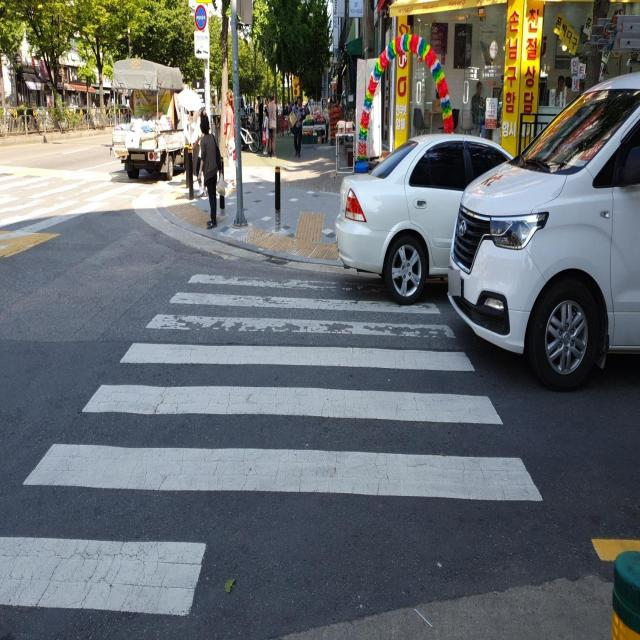횡단보도: (0, 272, 543, 617), (0, 172, 195, 249)
